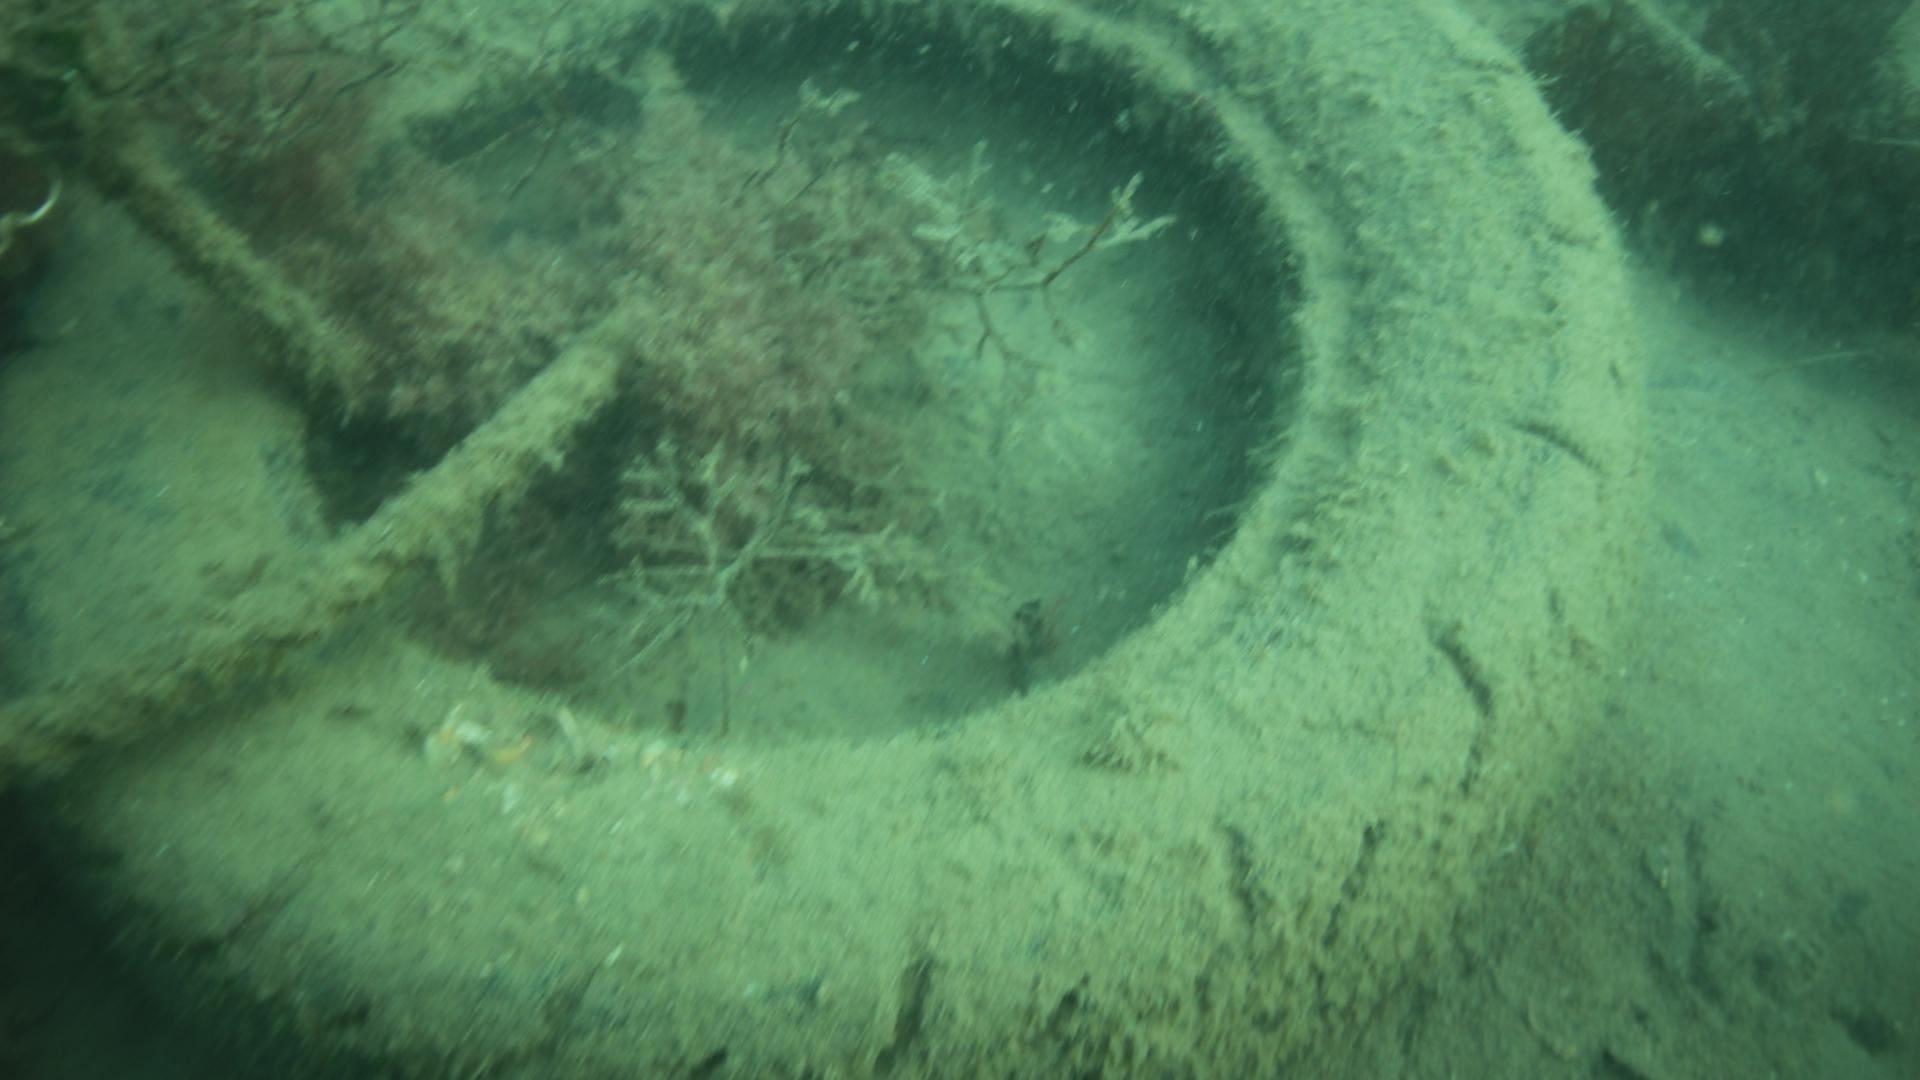rope: (0, 284, 651, 787), (74, 117, 404, 425)
tire: (0, 0, 1644, 1080)
